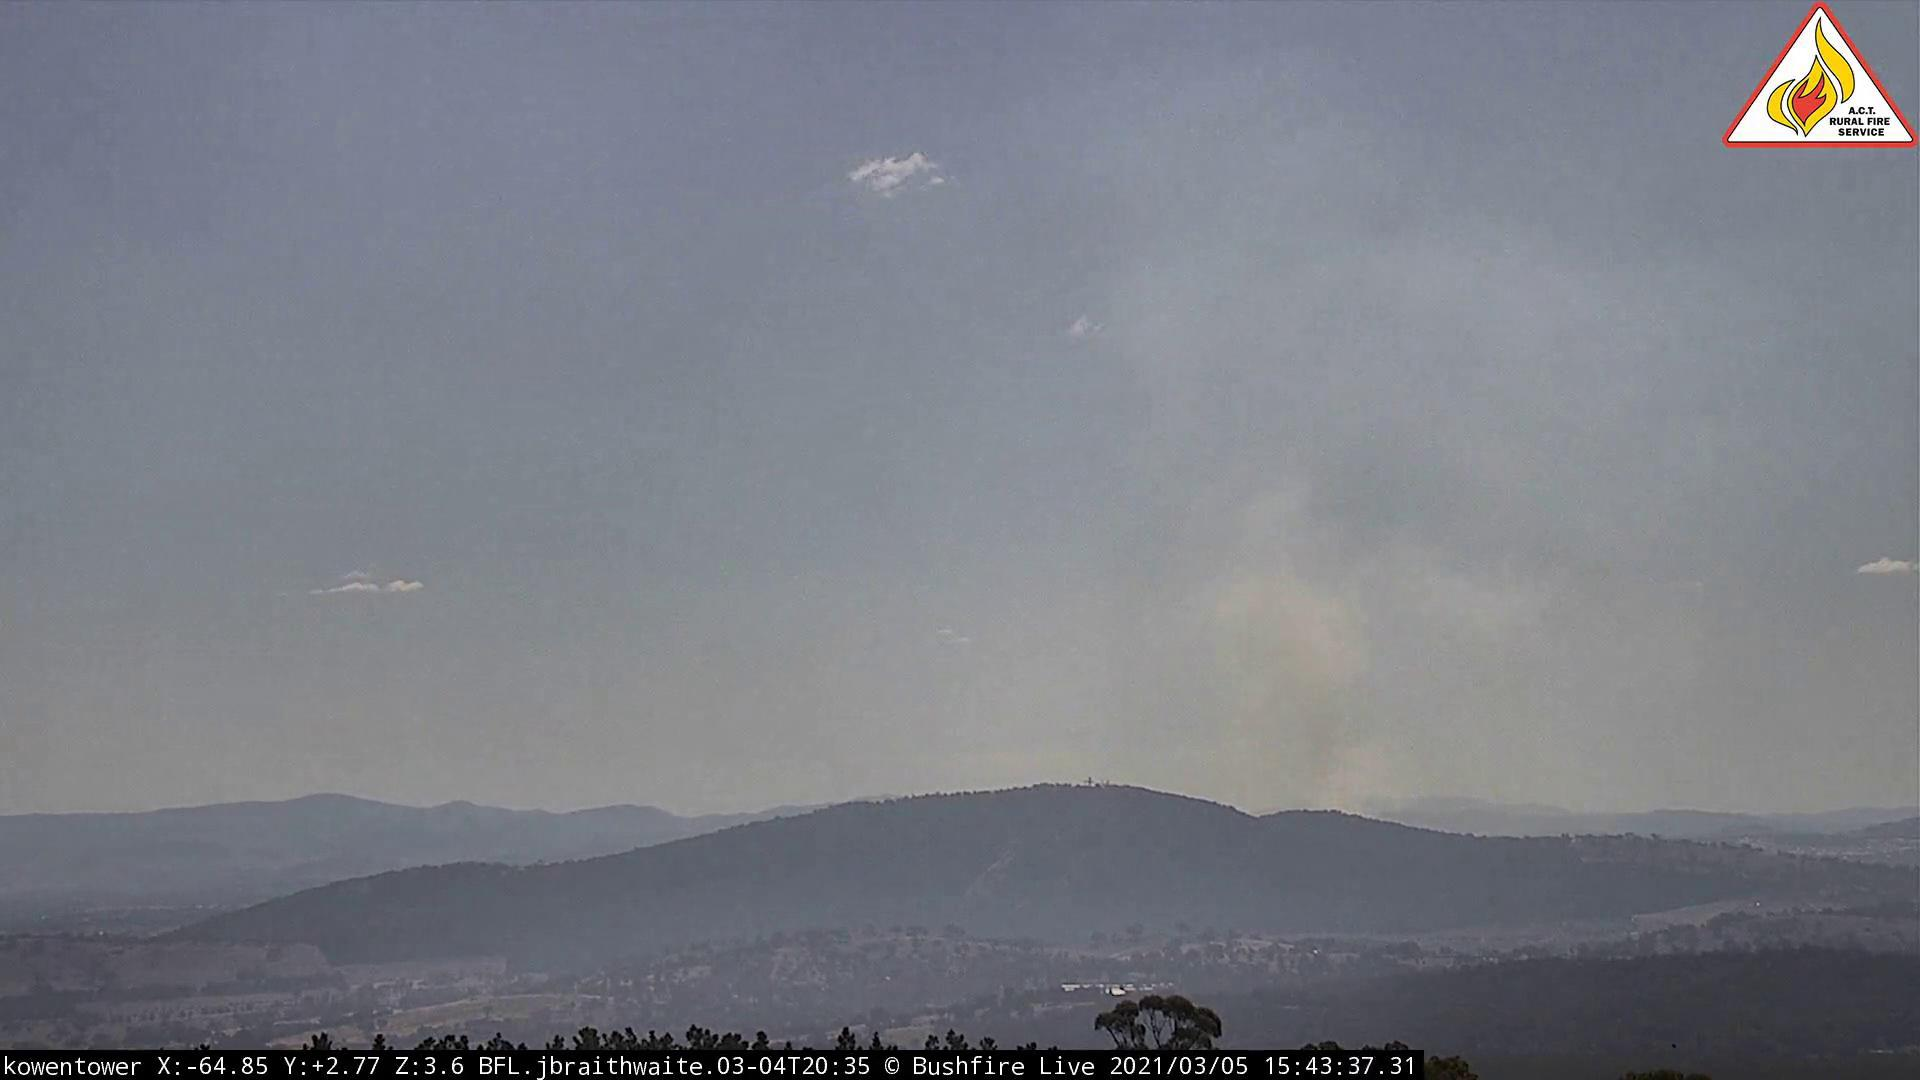Smoke: (956, 49, 1714, 833)
